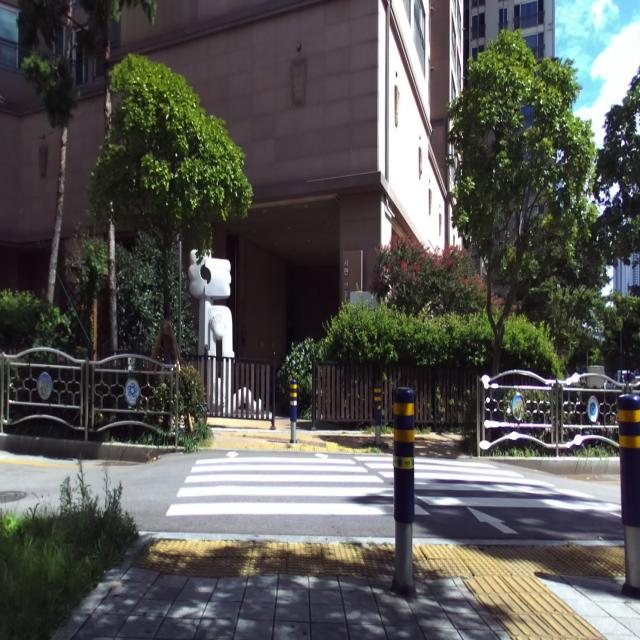횡단보도: (166, 451, 622, 535)
